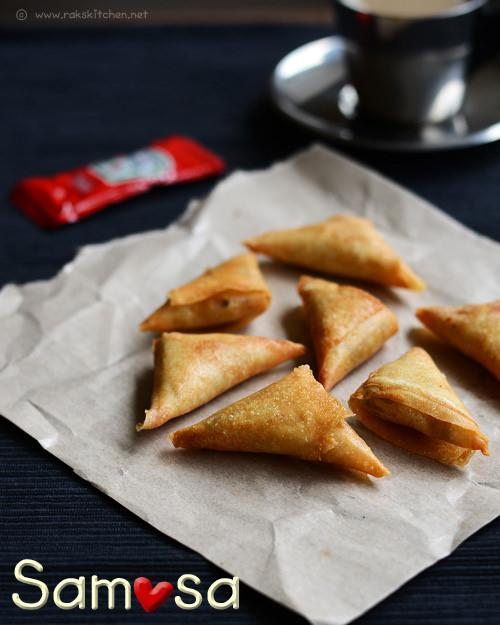samosa: (170, 365, 389, 477), (348, 347, 490, 466), (137, 332, 305, 430), (244, 215, 424, 290), (298, 276, 398, 390), (139, 253, 271, 332), (416, 300, 499, 379)
